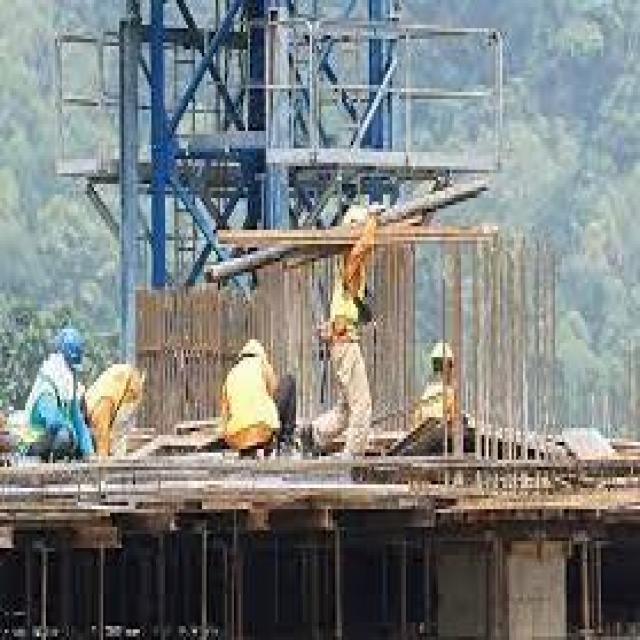Reflective-Jacket: (216, 350, 284, 460), (408, 375, 461, 438)
Safety-Helmet: (48, 318, 92, 378), (426, 332, 458, 375)
